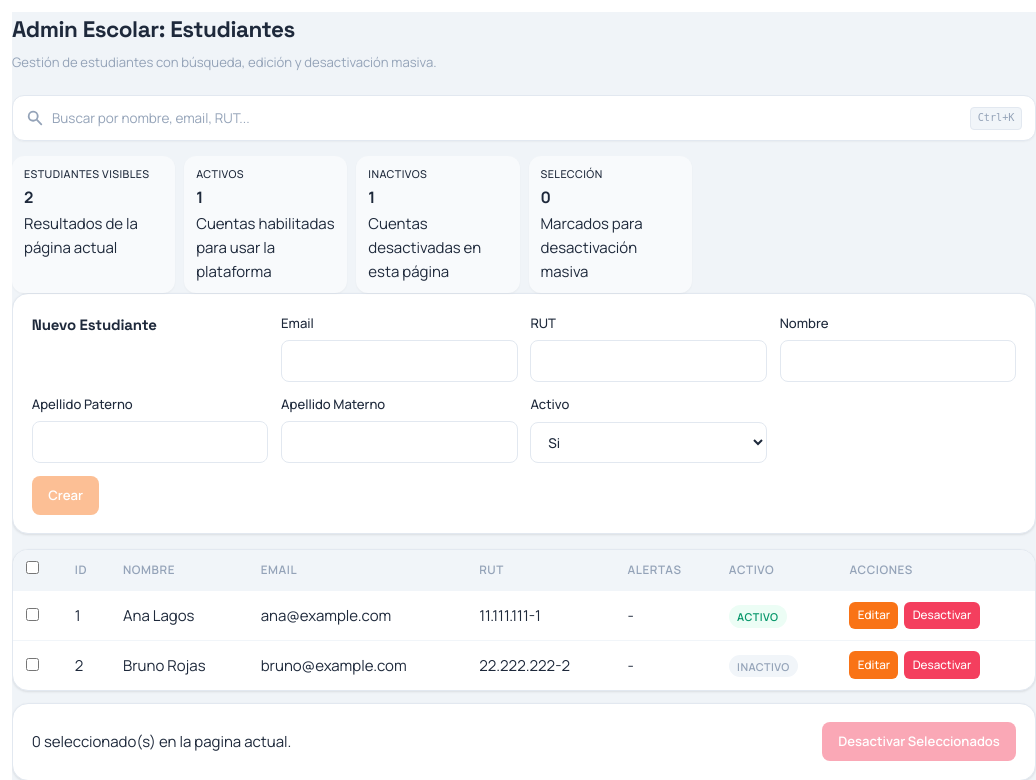
Test: AdminStudentsPage › supports row selection and bulk actions
Expected: the text "Ana Lagos" is shown, [110,591,248,641]
Expected: the text "Bruno Rojas" is shown, [110,641,248,690]
// Select a row
Click the checkbox named "Seleccionar estudiante Ana Lagos" at (32, 614), box [26,608,39,621]
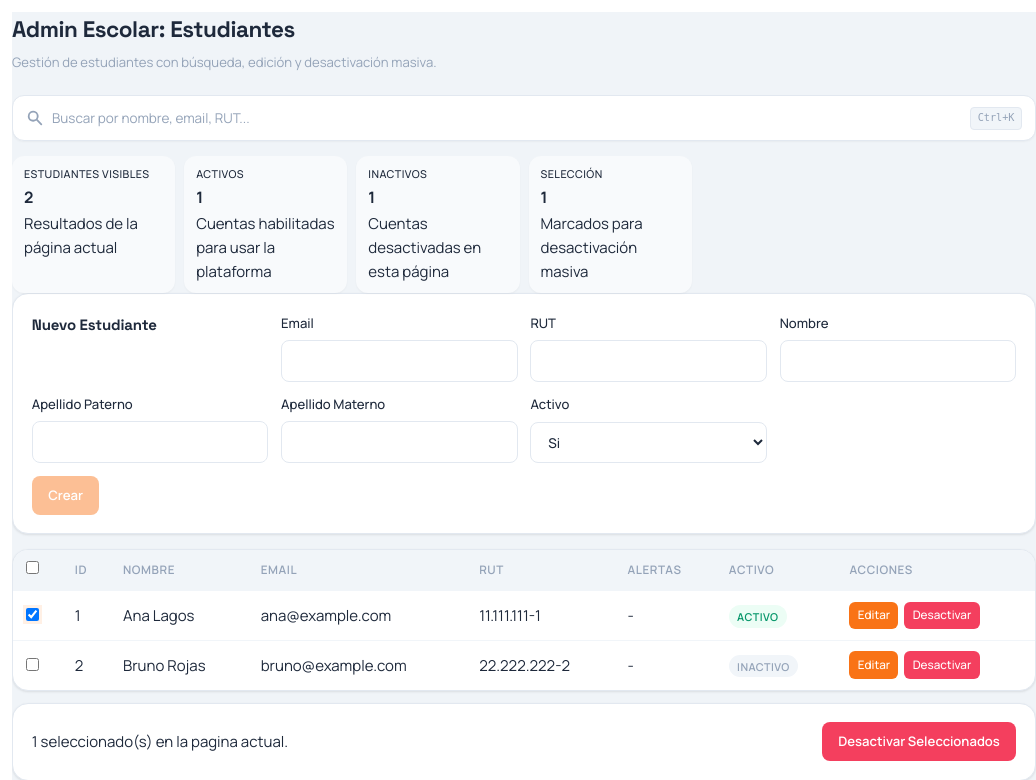
Expected: the text "1 seleccionado(s) en la pagina actual." is shown, [32,730,288,754]
Expected: the button "Desactivar Seleccionados" is enabled, [822,722,1016,761]
